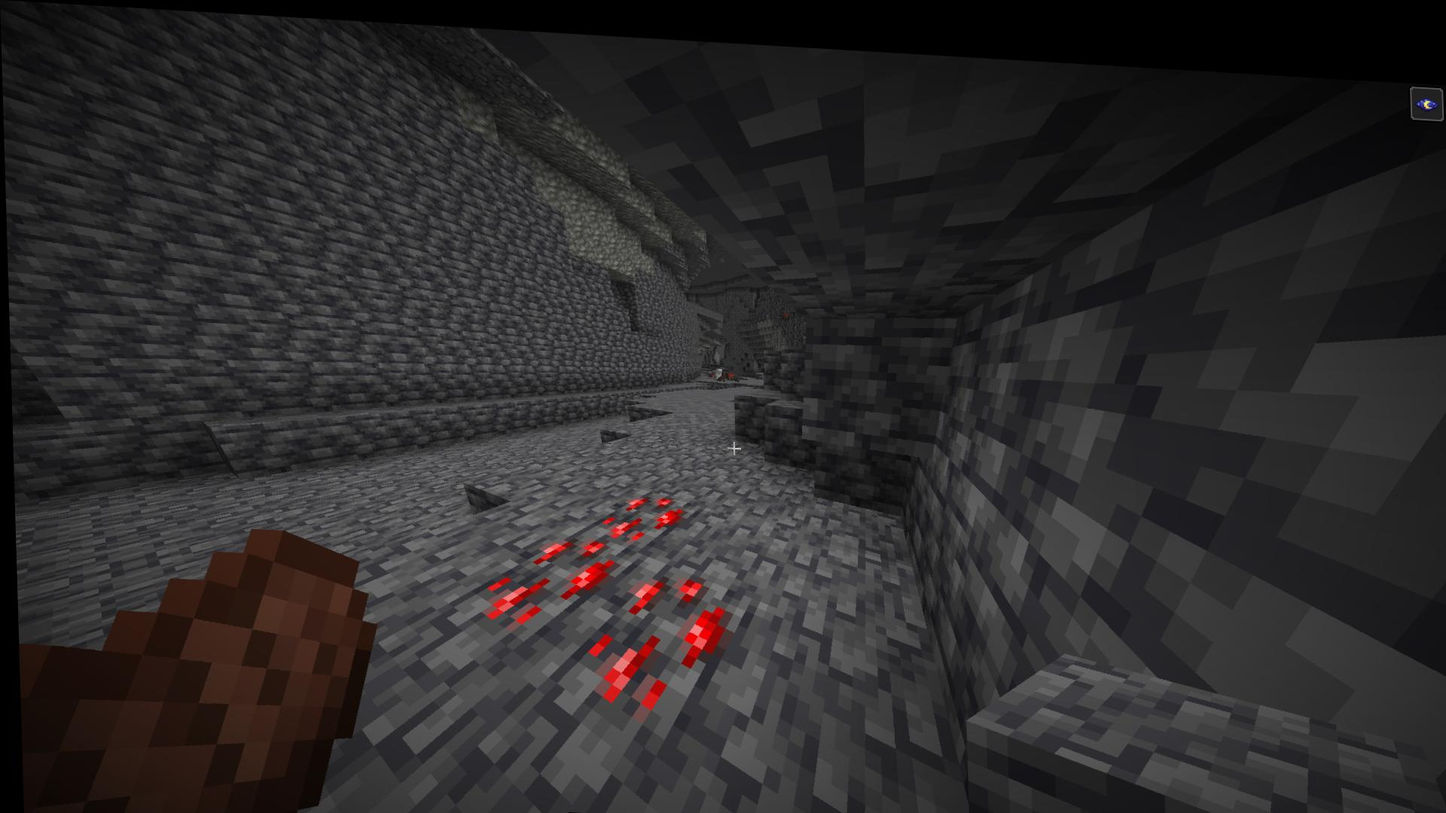redstone ore: (577, 560, 737, 710), (473, 520, 612, 630), (587, 481, 695, 543)
